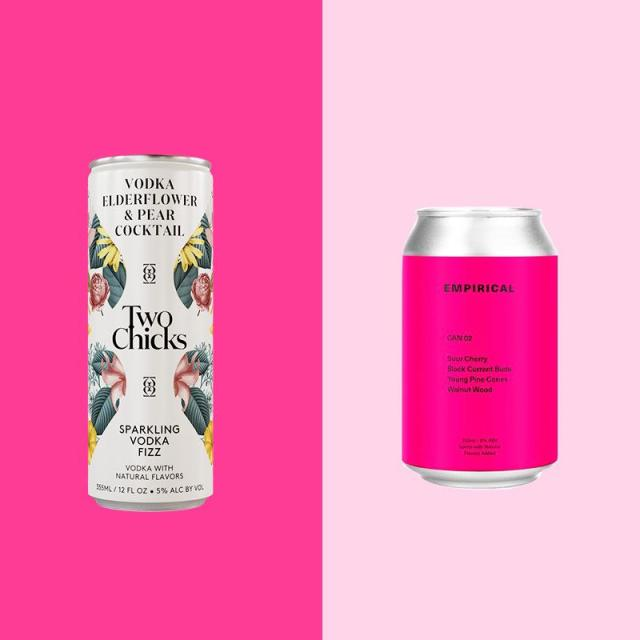Cans: (85, 152, 217, 514), (400, 205, 561, 492)
